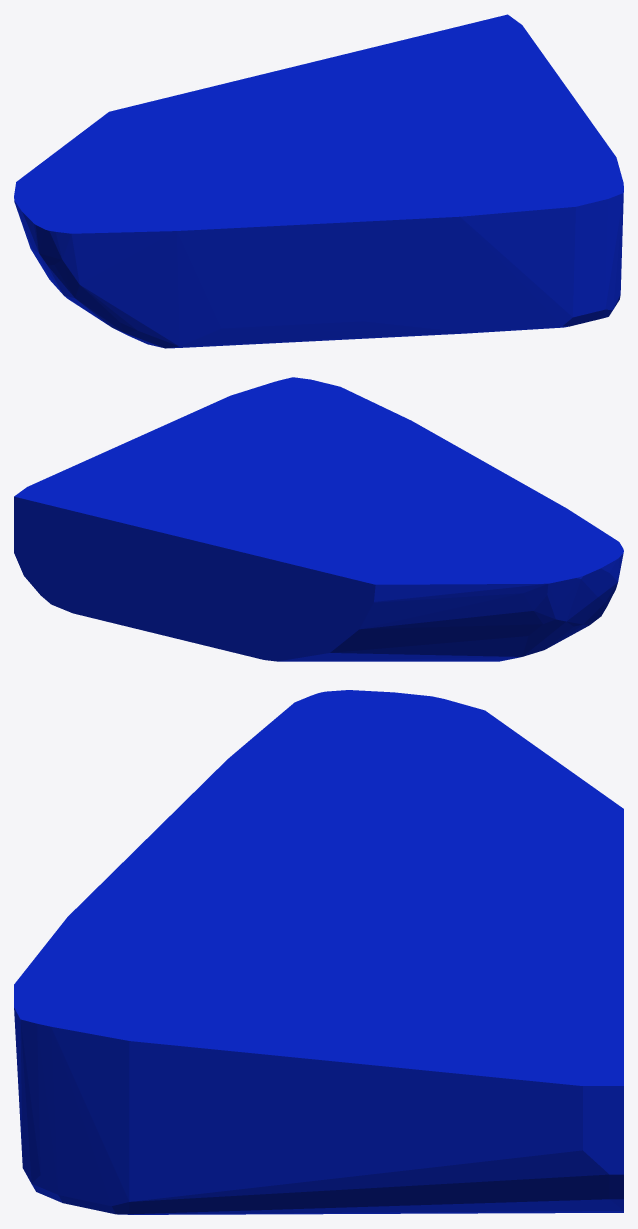
File: model0_convex_piece_006.obj
3 renders of one model, top to bottom at view 1: azimuth 30°, elevation 25°; view 2: azimuth 150°, elevation 25°; view 3: azimuth 270°, elevation 25°, orthographic. The views are drawn at different scales.
Bounding box in the file's own units: 0.0244 × 0.00532 × 0.0159.
